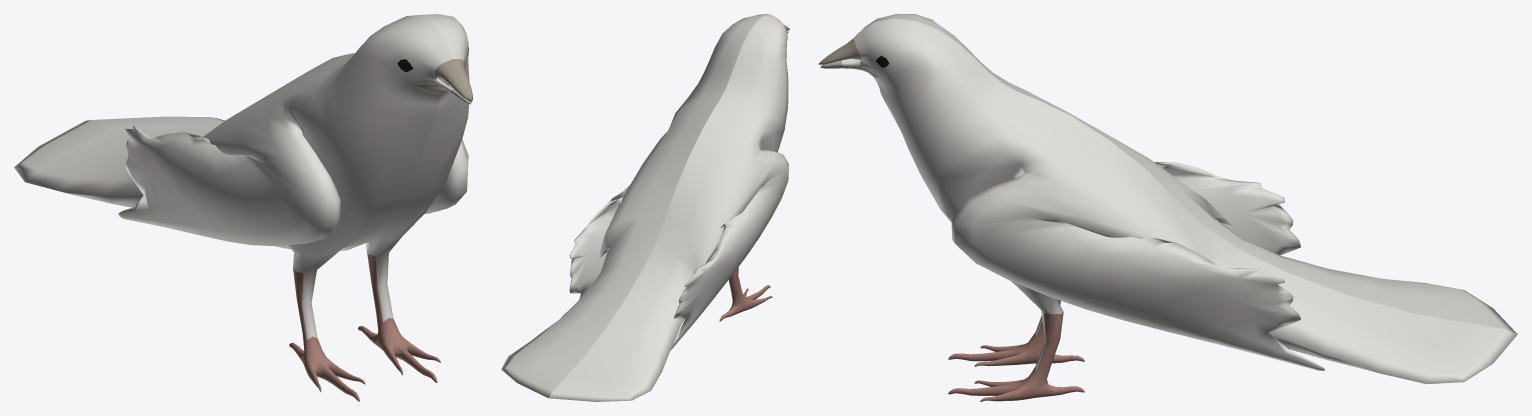
Rendered from memorial-dove.glb.
3 renders of one model, left to right at view 1: azimuth 30°, elevation 25°; view 2: azimuth 150°, elevation 25°; view 3: azimuth 270°, elevation 25°, orthographic. The views are drawn at different scales.
Parts seen in each view (by area): view 1: White dove; view 2: White dove; view 3: White dove.
Boxes of the visible parts, x1,y1,x2,y2 form: White dove: (14, 14, 472, 401); White dove: (501, 14, 789, 401); White dove: (818, 14, 1517, 401).
Size of the model in its own units: 0.0863 by 0.1456 by 0.2548.
